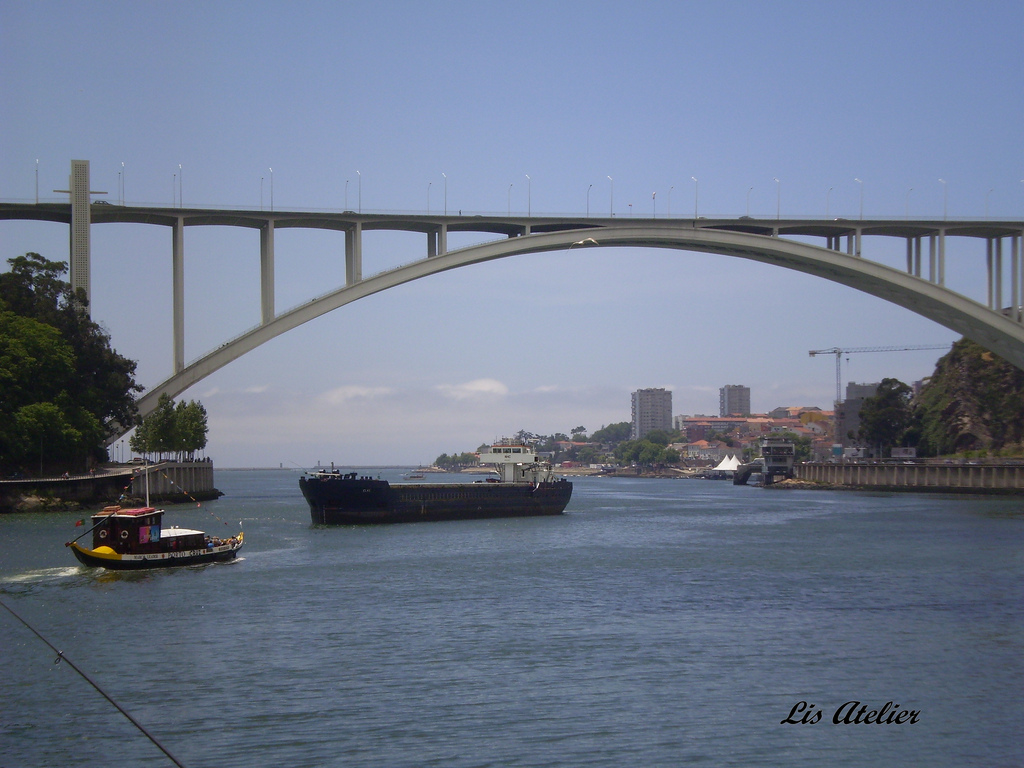arrabida: (0, 157, 1023, 459)
